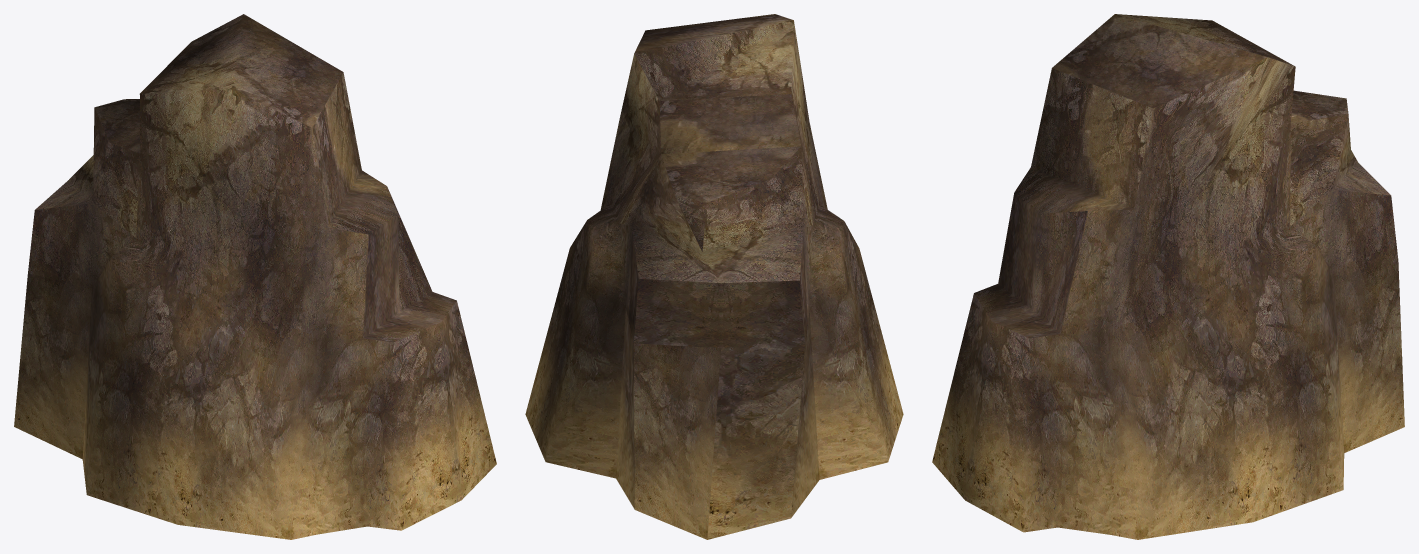
File: S_Rock_Yellow023.FBX
3 renders of one model, left to right at view 1: azimuth 30°, elevation 25°; view 2: azimuth 150°, elevation 25°; view 3: azimuth 270°, elevation 25°, orthographic. The views are drawn at different scales.
Visible parts, largest first — view 1: S_Rock_Yellow023; view 2: S_Rock_Yellow023; view 3: S_Rock_Yellow023.
Boxes of the visible parts, x1,y1,x2,y2 form: S_Rock_Yellow023: (14, 14, 496, 539); S_Rock_Yellow023: (525, 14, 903, 539); S_Rock_Yellow023: (932, 14, 1404, 539).
Size of the model in its own units: 132 by 147 by 146.
